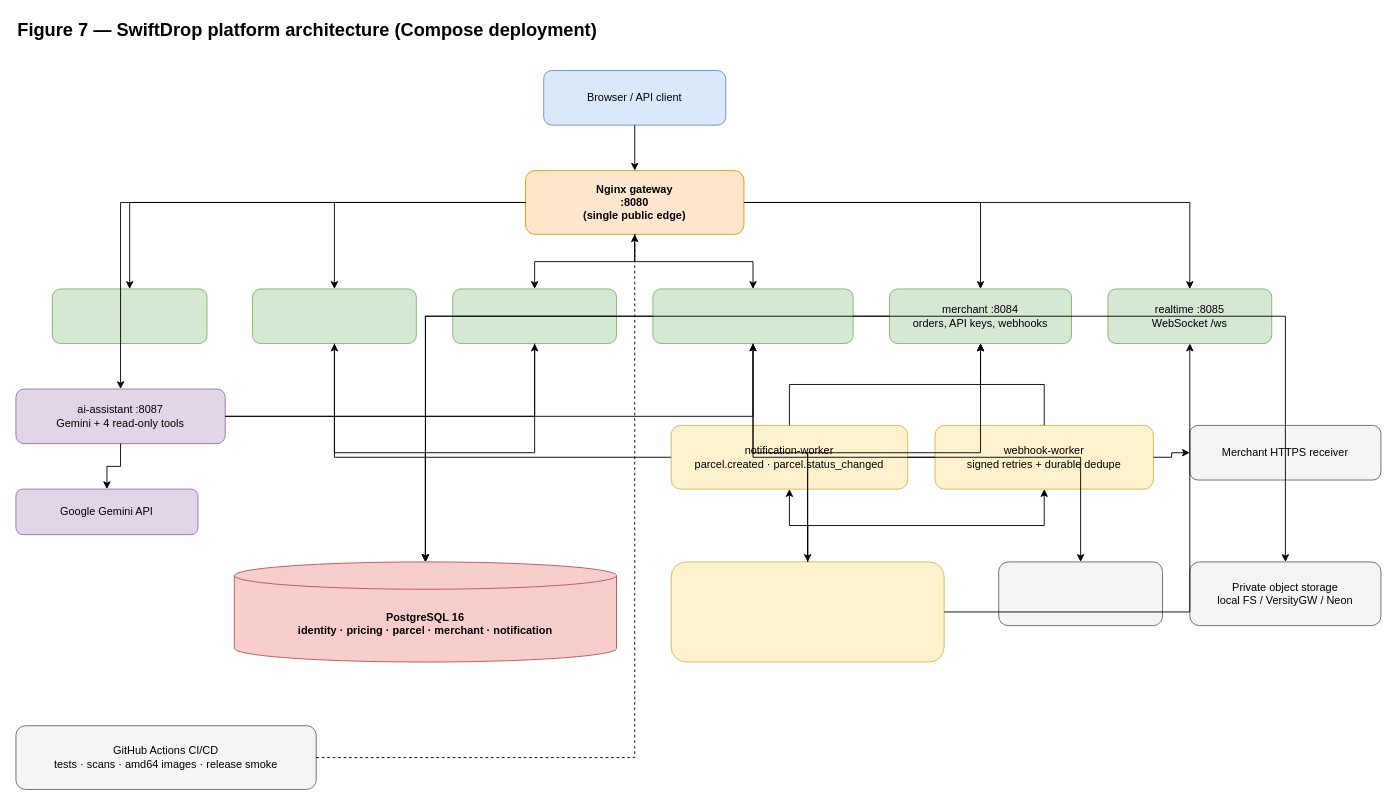
Image size: 1397x805. Some labels were removed from this diagram. Here are the shapes that lost their labels. From the top down, the centre of each, then its label:
the point at 129,316: Next.js web :3000
the point at 334,316: identity :8081 auth, users, couriers
the point at 534,316: pricing :8083 zones, quotes
the point at 752,316: parcel :8082 parcels, dispatch, proofs, outbox
the point at 807,611: RabbitMQ swiftdrop.events (topic) retry.v2 · DLQ queues
the point at 1080,593: SMTP / Mailpit :1025 · UI :8025
